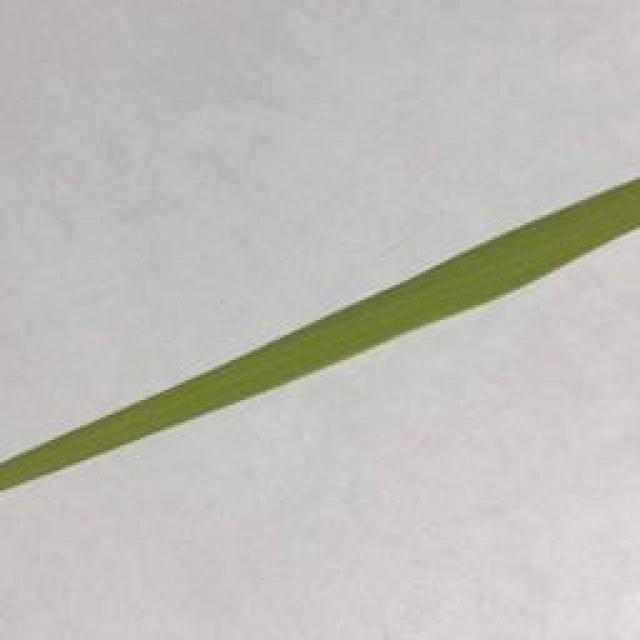Healthy-Plant: (0, 174, 640, 487)
